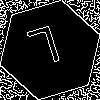L: (25, 25, 66, 77)
